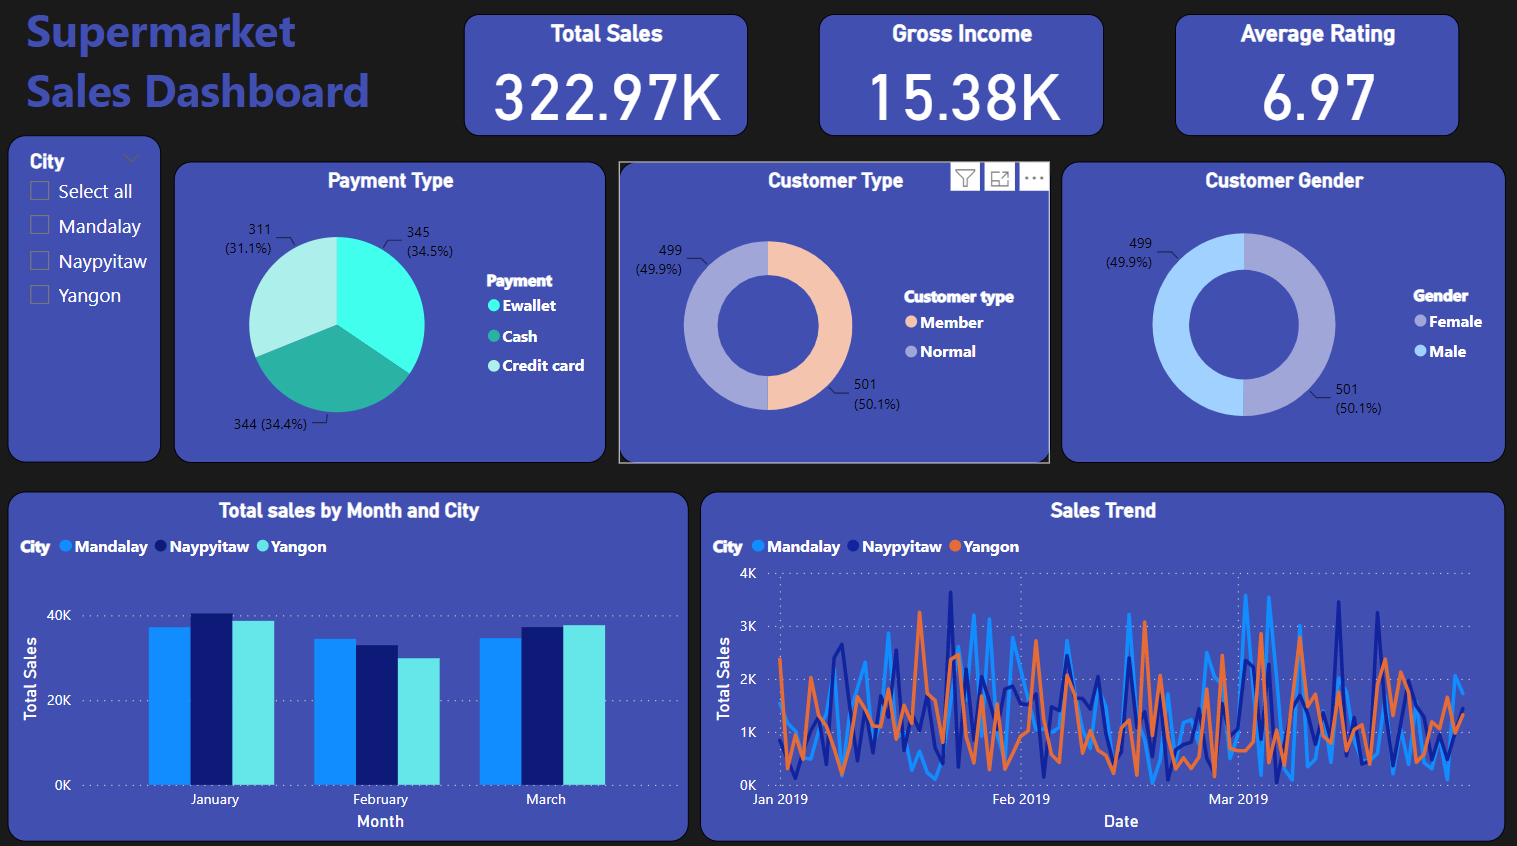

What the dashboard file says about the page in this screenshot:
{"tool":"powerbi","page":{"name":"overview","canvas":[1280,720],"ordinal":0},"visuals":[{"type":"donutChart","title":"Customer Gender","fields":{"Category":["supermarket_sales - Sheet1.Gender"],"Y":["CountNonNull(supermarket_sales - Sheet1.Gender)"]},"box":[893.8,140,372.5,252.5],"z":0},{"type":"clusteredColumnChart","title":"Total sales by Month and City","fields":{"Category":["supermarket_sales - Sheet1.Date.Variation.Date Hierarchy.Month"],"Y":["Sum(supermarket_sales - Sheet1.Total)"],"Series":["supermarket_sales - Sheet1.City"]},"box":[10,417.5,571.2,293.8],"z":1000},{"type":"pieChart","title":"Payment Type","fields":{"Category":["supermarket_sales - Sheet1.Payment"],"Y":["CountNonNull(supermarket_sales - Sheet1.Payment)"]},"box":[150,140,362.5,252.5],"z":2000},{"type":"card","title":"Total Sales","fields":{"Values":["Sum(supermarket_sales - Sheet1.Total)"]},"box":[393,16.3,238.4,102.3],"z":3000},{"type":"card","title":"Gross Income","fields":{"Values":["Sum(supermarket_sales - Sheet1.gross income)"]},"box":[690.7,16.3,239.5,102.3],"z":4000},{"type":"card","title":"Average Rating","fields":{"Values":["Avg(supermarket_sales - Sheet1.Rating)"]},"box":[989.5,16.3,238.4,102.3],"z":5000},{"type":"donutChart","title":"Customer Type","fields":{"Category":["supermarket_sales - Sheet1.Customer type"],"Y":["CountNonNull(supermarket_sales - Sheet1.Customer type)"]},"box":[522.5,140,362.5,253.8],"z":6000},{"type":"lineChart","title":"Sales Trend","fields":{"Category":["supermarket_sales - Sheet1.Date"],"Y":["Sum(supermarket_sales - Sheet1.Total)"],"Series":["supermarket_sales - Sheet1.City"]},"box":[591.2,417.5,675,293.8],"z":7000},{"type":"textbox","box":[20.9,0,332.6,118.6],"z":8000},{"type":"slicer","fields":{"Values":["supermarket_sales - Sheet1.City"]},"box":[10.5,118.6,129.1,274.4],"z":9000}]}

Visuals, with their boxes in screenshot pixels (x1, y1, x2, y2), scaled from the page's 1280x720 canvas onto the 1517x846 screenshot:
"Customer Gender" donutChart: x1=1059, y1=164, x2=1501, y2=461
"Total sales by Month and City" clusteredColumnChart: x1=12, y1=491, x2=689, y2=836
"Payment Type" pieChart: x1=178, y1=164, x2=607, y2=461
"Total Sales" card: x1=466, y1=19, x2=748, y2=139
"Gross Income" card: x1=819, y1=19, x2=1102, y2=139
"Average Rating" card: x1=1173, y1=19, x2=1455, y2=139
"Customer Type" donutChart: x1=619, y1=164, x2=1049, y2=463
"Sales Trend" lineChart: x1=701, y1=491, x2=1501, y2=836
textbox: x1=25, y1=0, x2=419, y2=139
slicer - supermarket_sales - Sheet1.City: x1=12, y1=139, x2=165, y2=462
